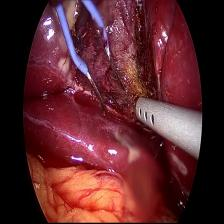Bipolar: (47, 2, 131, 118)
Irrigator: (135, 94, 175, 139)
